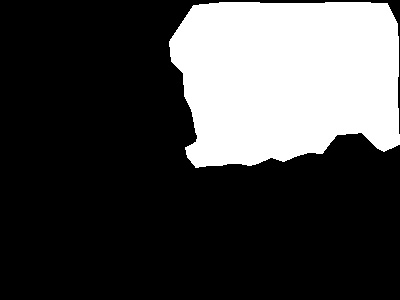Fire: (181, 2, 400, 167)
